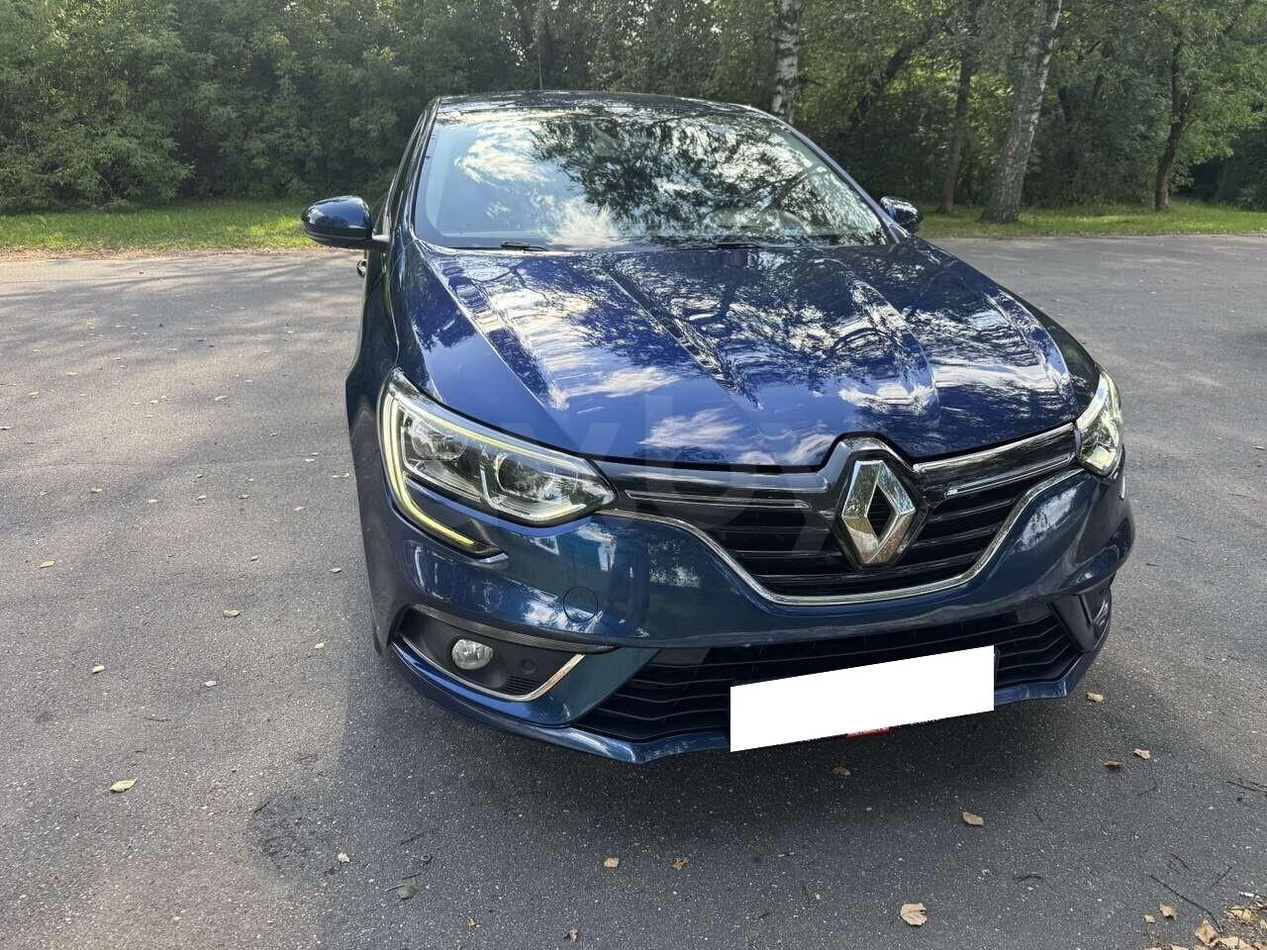Megane_2016-2020: (328, 80, 1137, 783)
